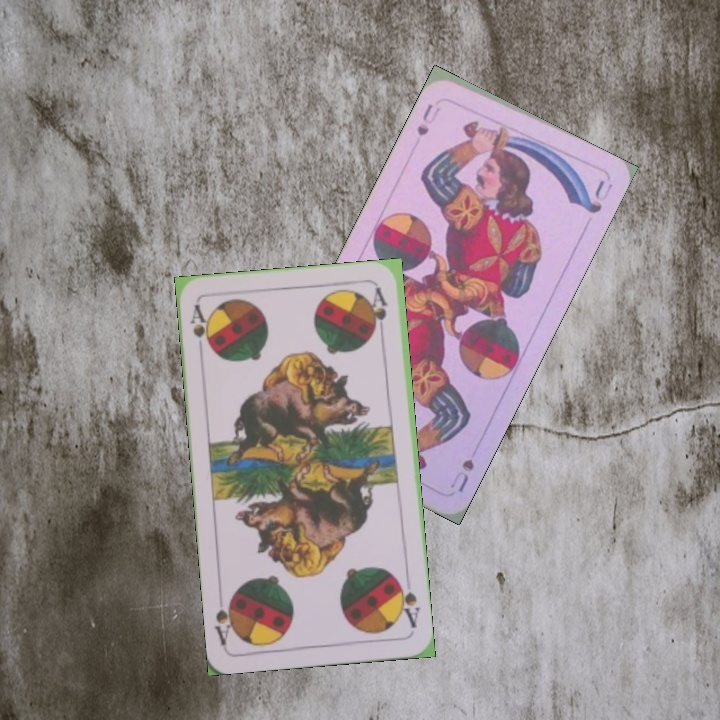SA: (186, 300, 215, 359), (393, 574, 422, 631)
SU: (446, 451, 478, 495), (412, 99, 444, 139)
